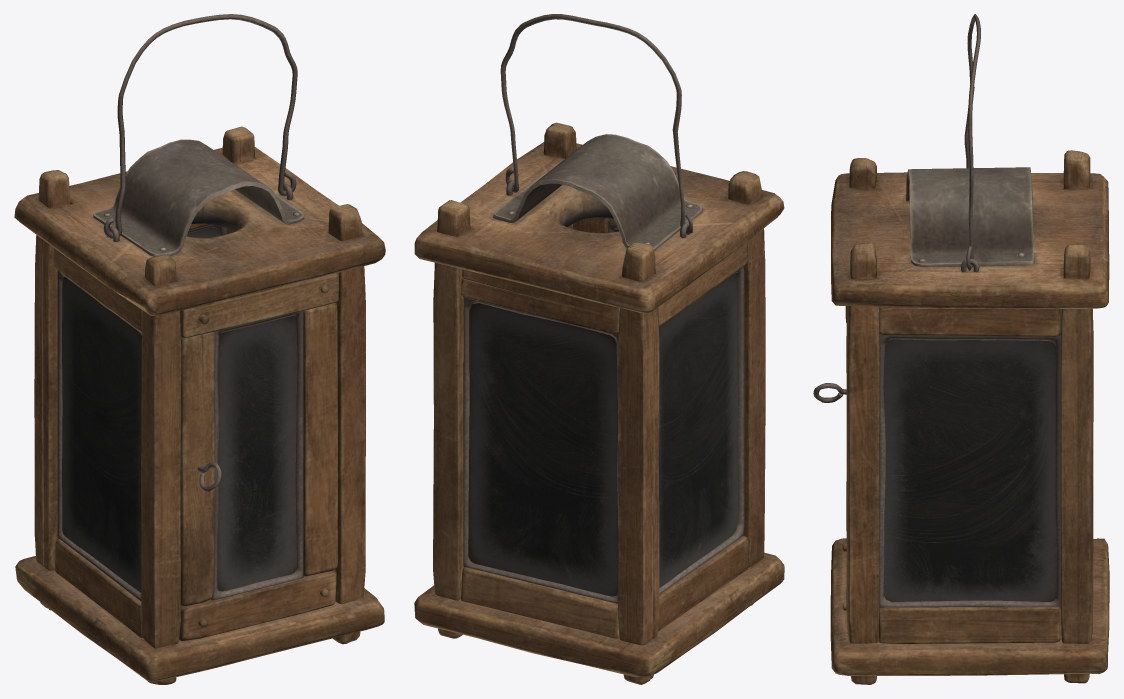
Rendered from wooden_lantern_01.glb.
The picture shows the model from 3 angles, left to right: view 1: azimuth 30°, elevation 25°; view 2: azimuth 150°, elevation 25°; view 3: azimuth 270°, elevation 25°; orthographic projection.
Parts seen in each view (by area): view 1: wooden_lantern_01, wooden_lantern_01_door, wooden_lantern_01_handle; view 2: wooden_lantern_01, wooden_lantern_01_handle, wooden_lantern_01_door; view 3: wooden_lantern_01, wooden_lantern_01_handle, wooden_lantern_01_door.
Part boxes in pixels (bbox=[...]): wooden_lantern_01: bbox=[14, 126, 385, 684]; wooden_lantern_01_door: bbox=[179, 272, 339, 641]; wooden_lantern_01_handle: bbox=[103, 14, 297, 238]; wooden_lantern_01: bbox=[414, 122, 784, 684]; wooden_lantern_01_handle: bbox=[500, 14, 692, 234]; wooden_lantern_01_door: bbox=[573, 217, 618, 233]; wooden_lantern_01: bbox=[830, 150, 1109, 684]; wooden_lantern_01_handle: bbox=[964, 14, 980, 270]; wooden_lantern_01_door: bbox=[813, 306, 847, 610].
Size of the model in its own units: 0.2211 by 0.5301 by 0.2347.
2 materials, 2 textured.
